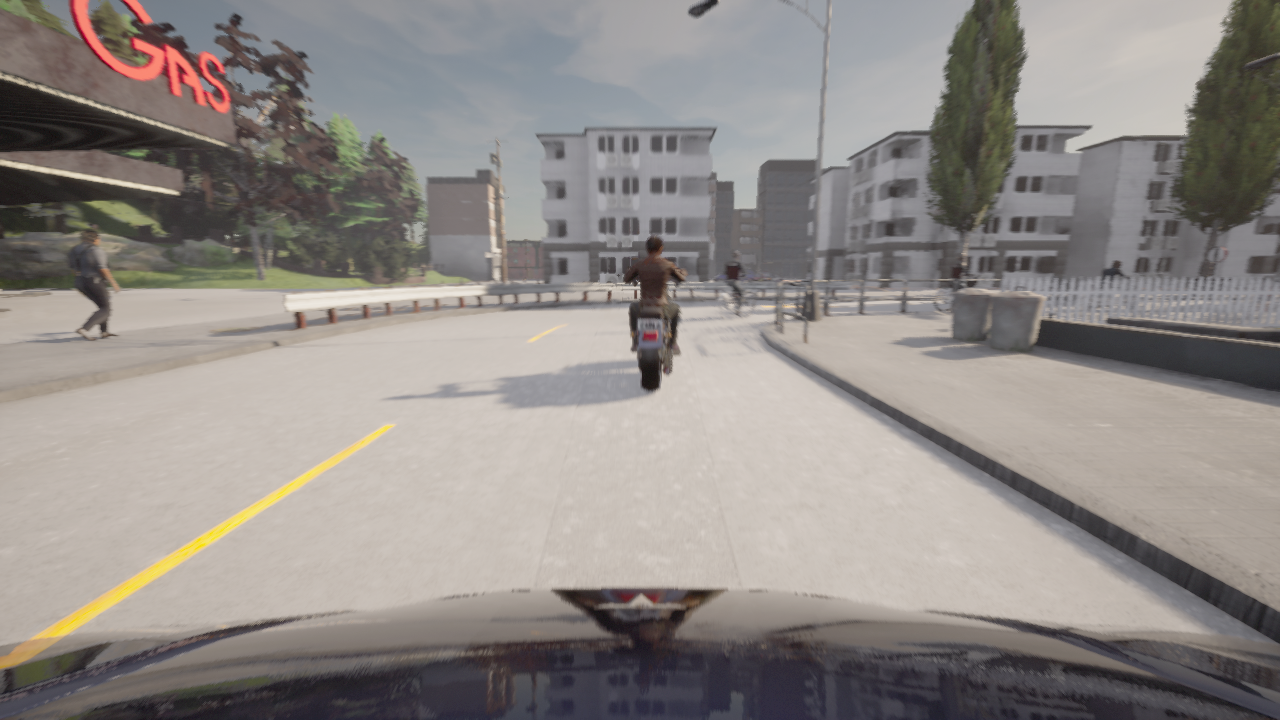cyclist: (0, 588, 1279, 719), (630, 268, 687, 392), (1088, 272, 1137, 310), (934, 276, 977, 311), (720, 276, 754, 319), (714, 269, 754, 281), (749, 271, 782, 281), (1274, 289, 1279, 308), (749, 278, 769, 279)
pedestrian: (69, 229, 121, 341), (1246, 276, 1272, 318), (755, 273, 763, 295)
